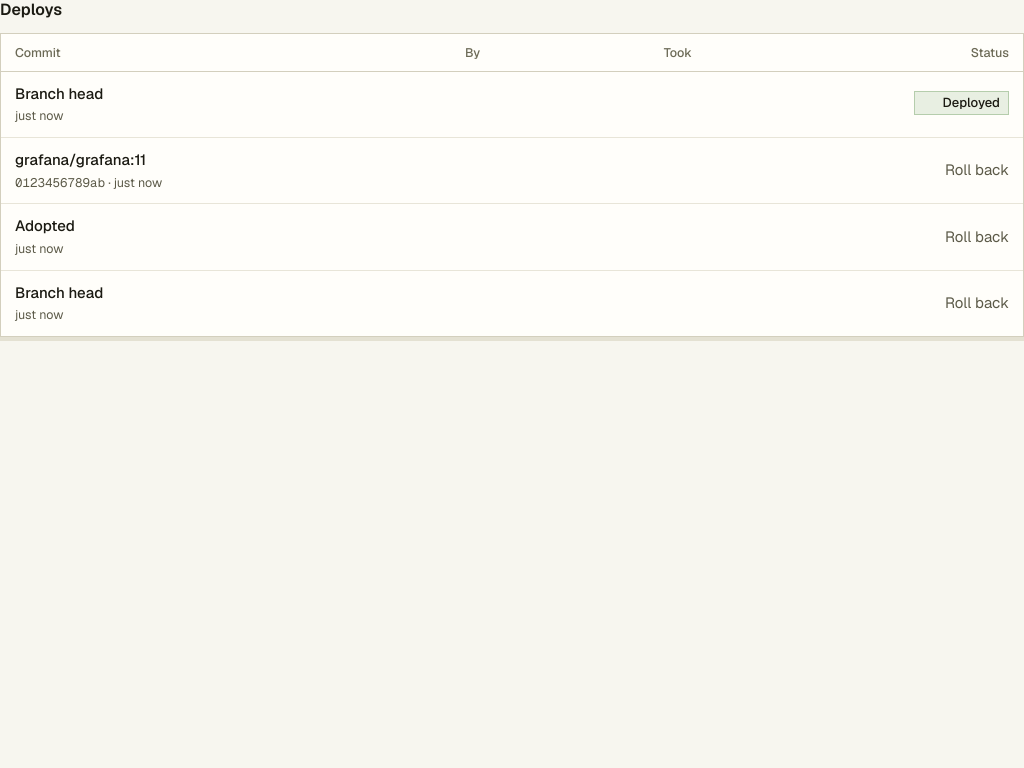
Test case: Events › names a deploy with no commit by its digest, then subject, then id
Click the button "Roll back" in the row of "grafana/grafana:11": point(977, 171) [945,159,1009,182]
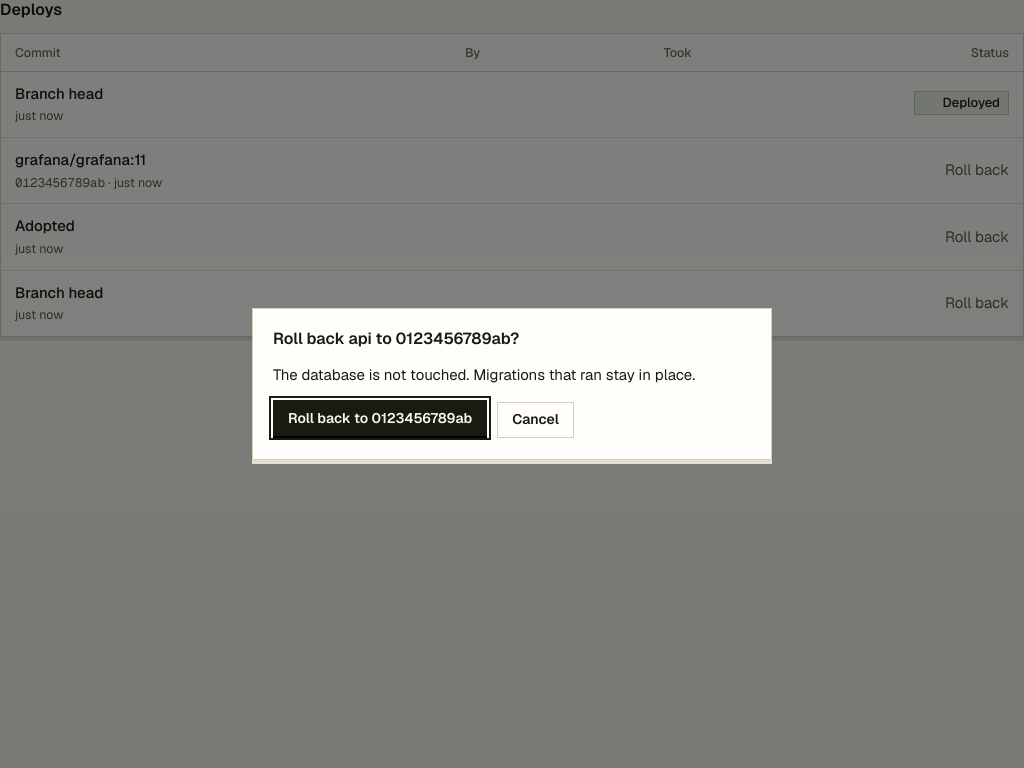
Now the button "Roll back to 0123456789ab" is shown, box [273,400,487,436]
Click the button "Cancel": point(536, 420) [497,402,574,438]
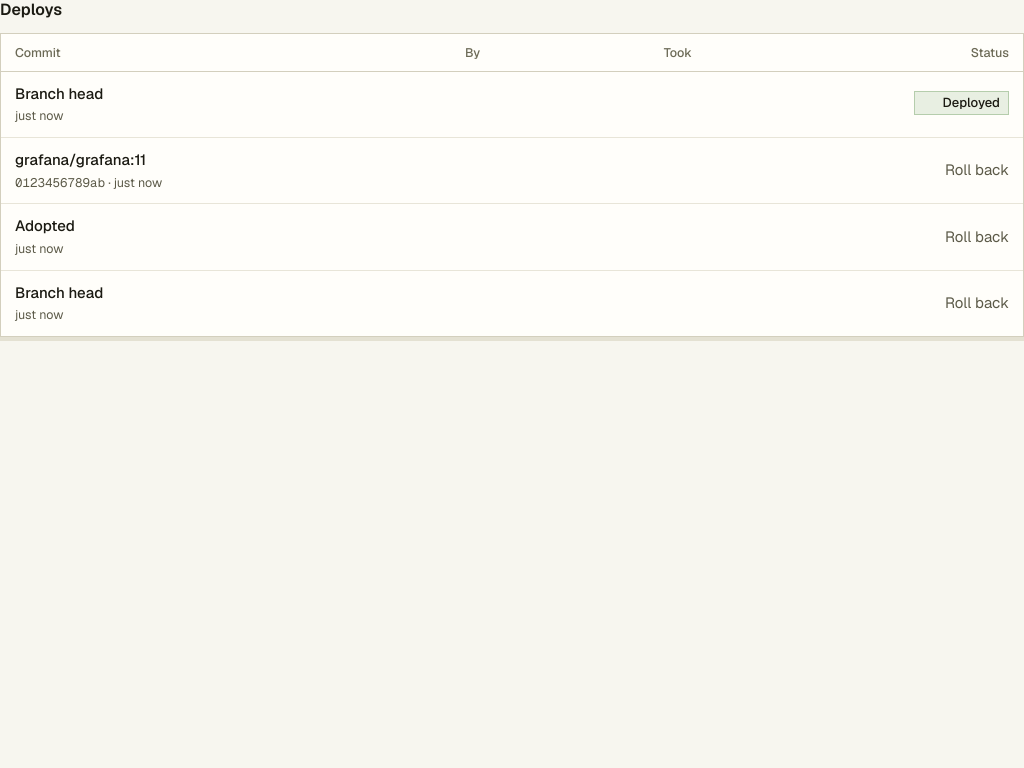
Click the button "Roll back" in the row of "Adopted": point(977, 237) [945,226,1009,248]
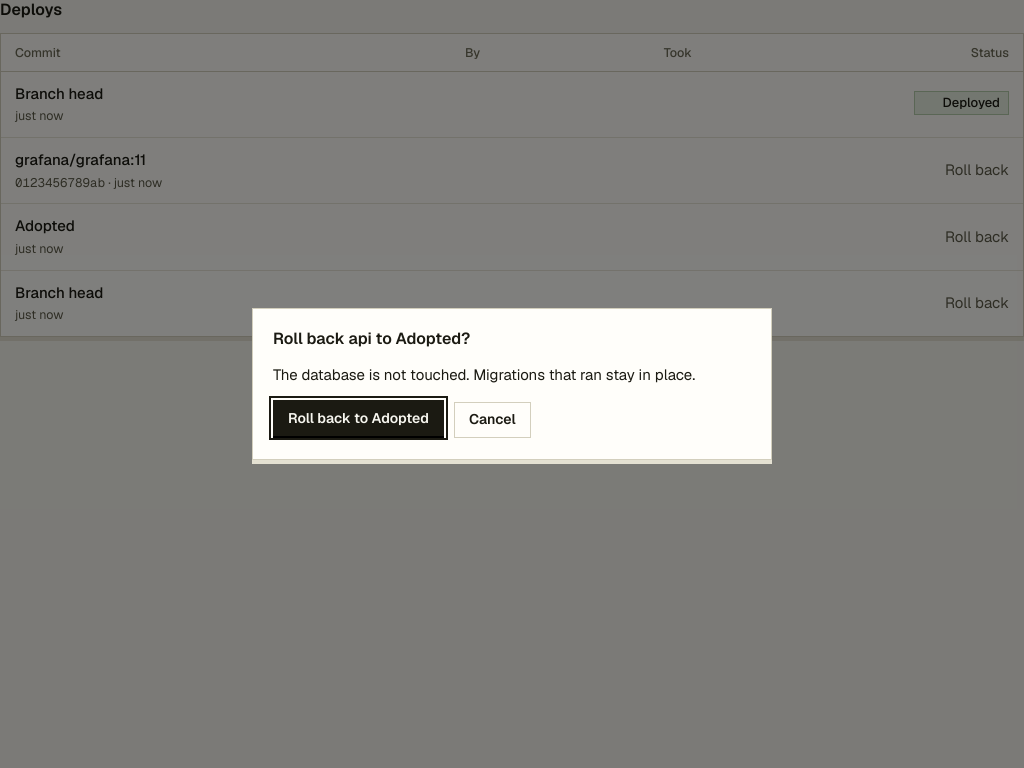
Now the dialog "Roll back api to Adopted?" is shown
Click the button "Cancel": point(492, 420) [454,402,531,438]
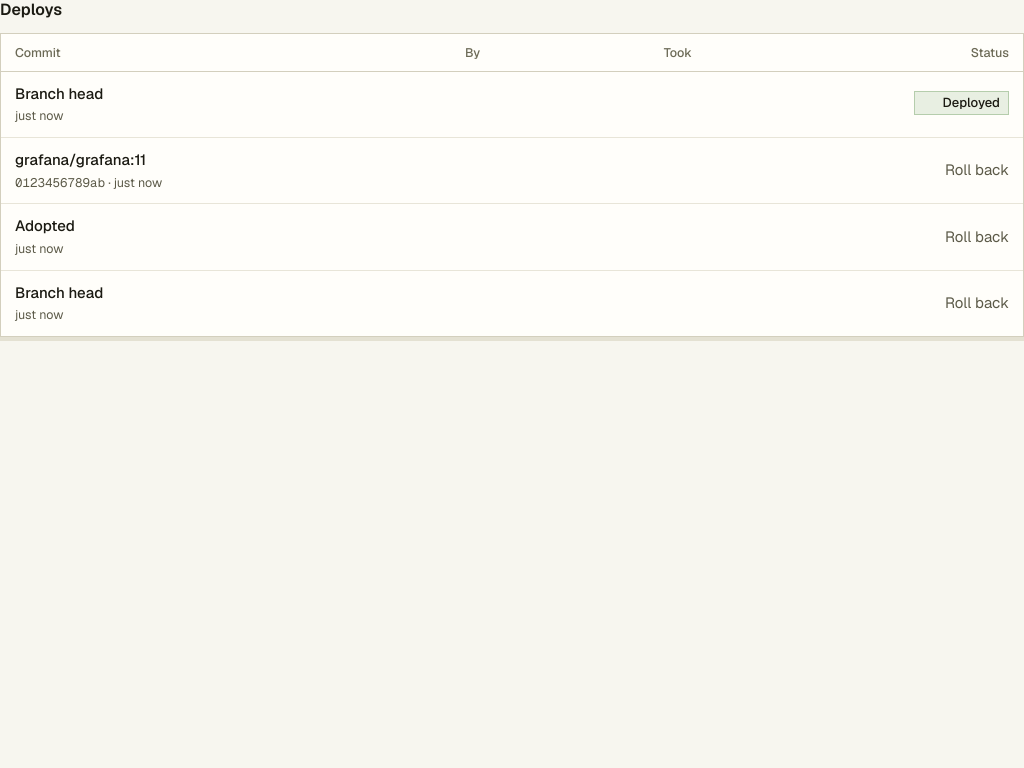
Click the 3rd button "Roll back": point(977, 303) [945,292,1009,314]
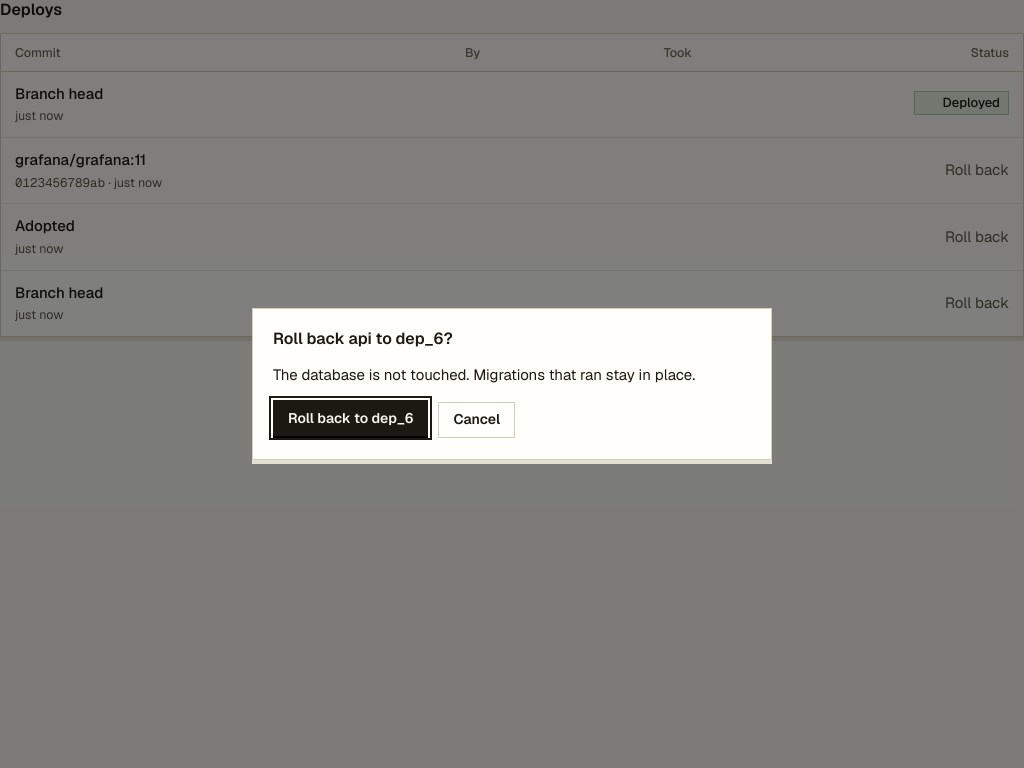
Now the button "Roll back to dep_6" is shown, box [273,400,428,436]
